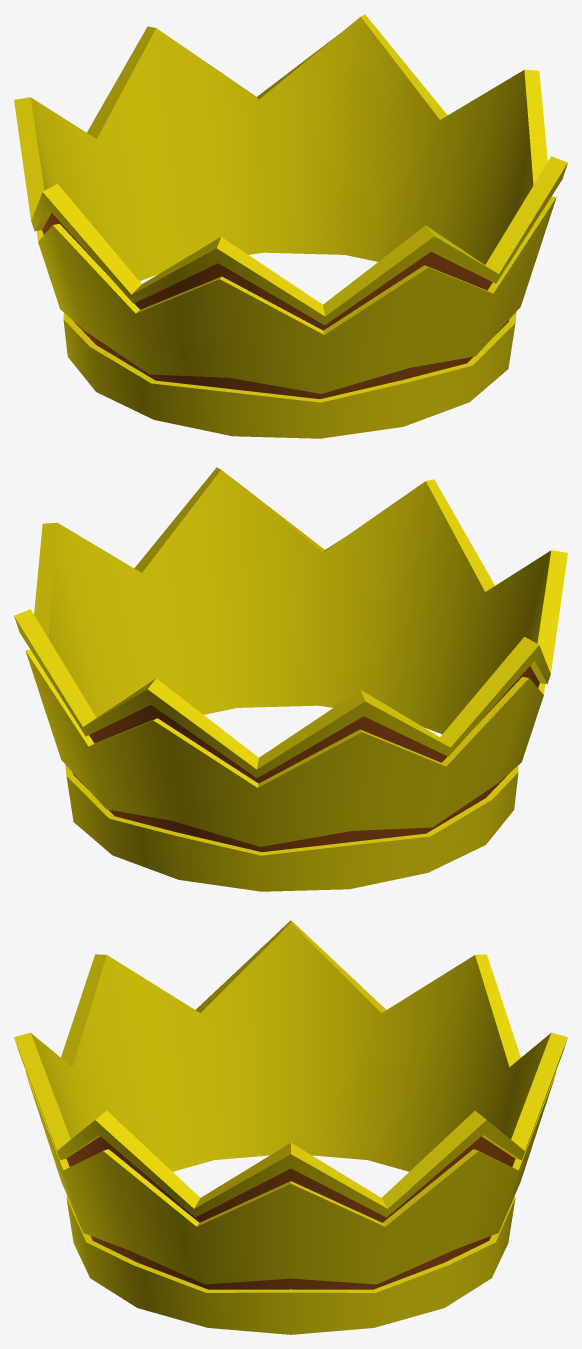
File: HAT_Crown.fbx
3 views of the same model, one above another, from view 1: azimuth 30°, elevation 25°; view 2: azimuth 150°, elevation 25°; view 3: azimuth 270°, elevation 25° (orthographic). The views are drawn at different scales.
Visible parts, largest first — view 1: Crown; view 2: Crown; view 3: Crown.
Boxes of the visible parts, x1,y1,x2,y2 form: Crown: (14, 14, 567, 438); Crown: (14, 467, 567, 891); Crown: (14, 920, 567, 1334).
Bounding box in the file's own units: 50.46 × 21.14 × 50.46.
